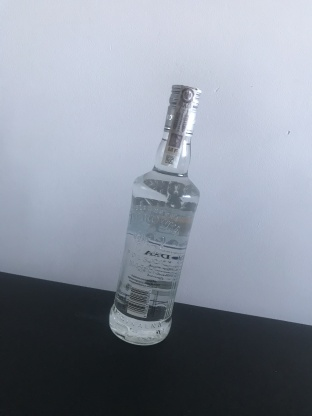nakretka: (161, 81, 203, 141)
